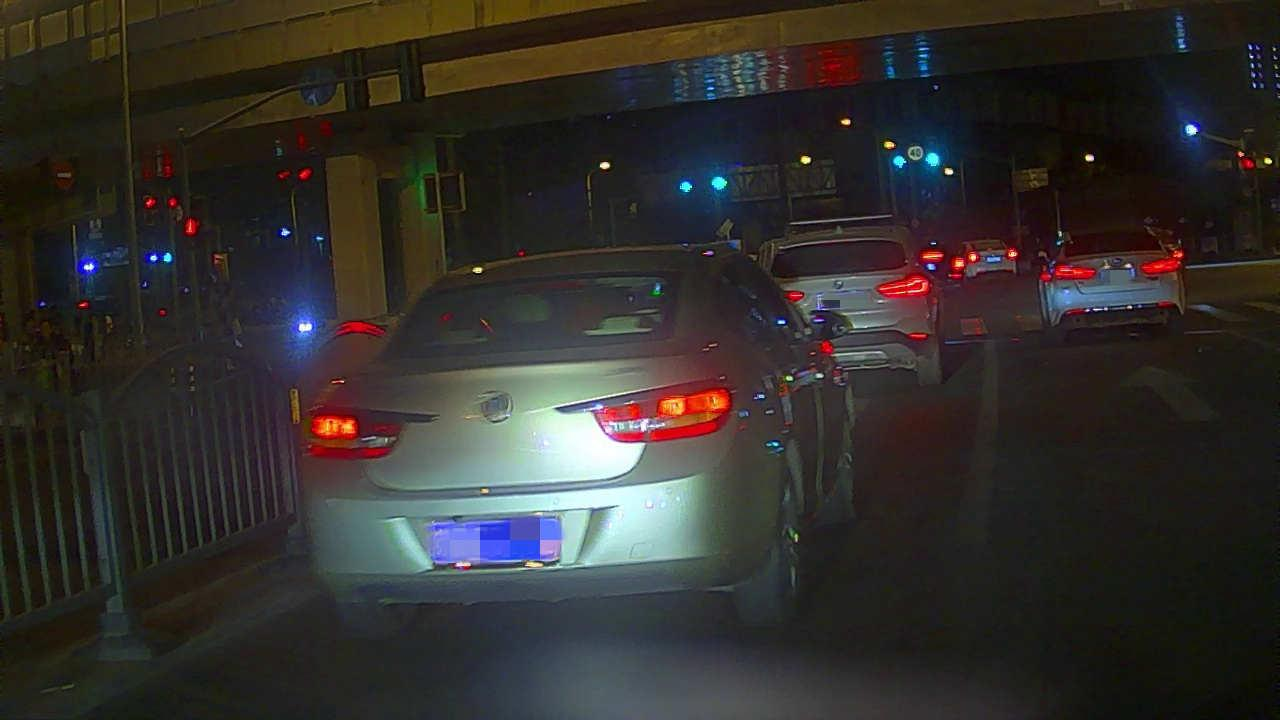traffic_light: (920, 147, 944, 170), (709, 172, 730, 193), (675, 176, 696, 196), (888, 153, 910, 172)
